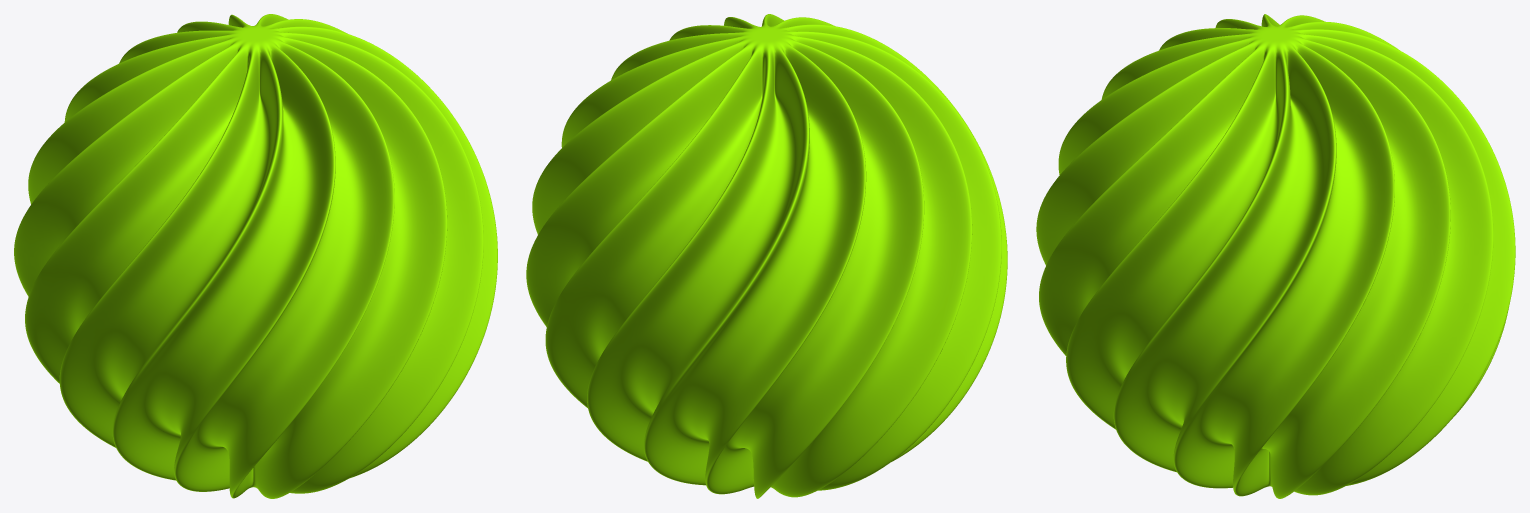
The model's file is abstract-shape-animated-3d-icon-1573750599827.glb.
The picture shows the model from 3 angles, left to right: view 1: azimuth 30°, elevation 25°; view 2: azimuth 150°, elevation 25°; view 3: azimuth 270°, elevation 25°; orthographic projection.
Visible parts, largest first — view 1: Abstract Sphere; view 2: Abstract Sphere; view 3: Abstract Sphere.
Boxes of the visible parts, <box> form: Abstract Sphere: <box>14,14,497,498</box>; Abstract Sphere: <box>526,14,1007,498</box>; Abstract Sphere: <box>1036,14,1515,498</box>.
Bounding box in the file's own units: 1.89 × 1.93 × 1.89.
